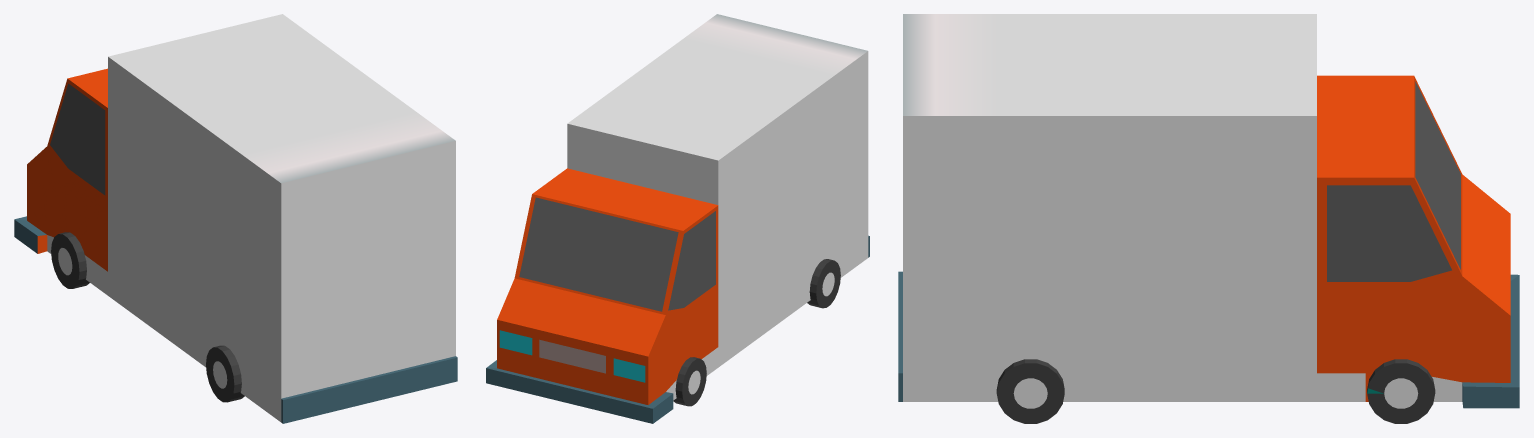
Rendered from xe tai 1.fbx.
The picture shows the model from 3 angles, left to right: view 1: azimuth 30°, elevation 25°; view 2: azimuth 150°, elevation 25°; view 3: azimuth 270°, elevation 25°; orthographic projection. The views are drawn at different scales.
Parts seen in each view (by area): view 1: Car_08; view 2: Car_08; view 3: Car_08.
Boxes of the visible parts, x1,y1,x2,y2 form: Car_08: (14,14,457,423); Car_08: (486,14,869,423); Car_08: (898,14,1519,423).
Size of the model in its own units: 286 by 360 by 667.
